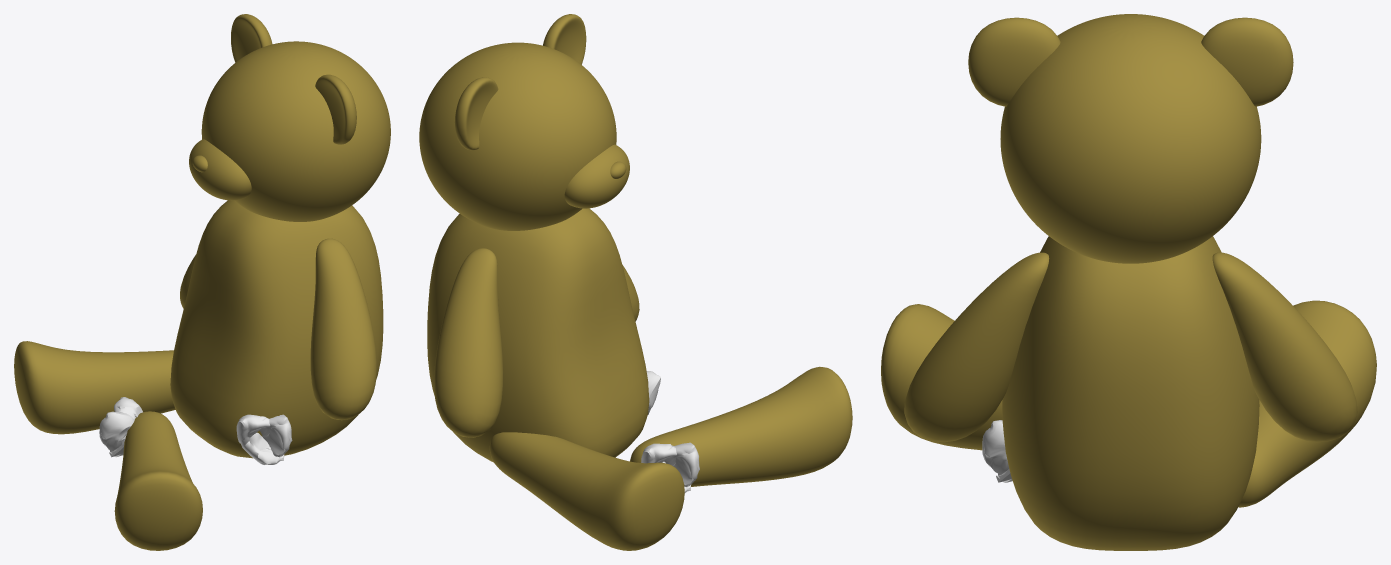
The model's file is Urso_2.fbx.
The picture shows the model from 3 angles, left to right: view 1: azimuth 30°, elevation 25°; view 2: azimuth 150°, elevation 25°; view 3: azimuth 270°, elevation 25°; orthographic projection. The views are drawn at different scales.
Visible parts, largest first — view 1: Urso_2; view 2: Urso_2; view 3: Urso_2.
Part boxes in pixels (x1=…): Urso_2: x1=14, y1=14, x2=390, y2=550; Urso_2: x1=419, y1=14, x2=852, y2=550; Urso_2: x1=881, y1=14, x2=1376, y2=550.
Bounding box in the file's own units: 88.82 × 103 × 83.73.
